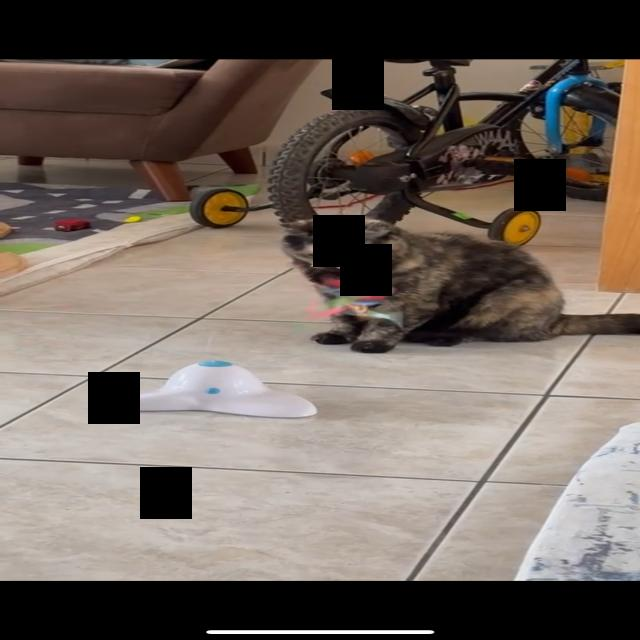authorized: (279, 214, 638, 354)
